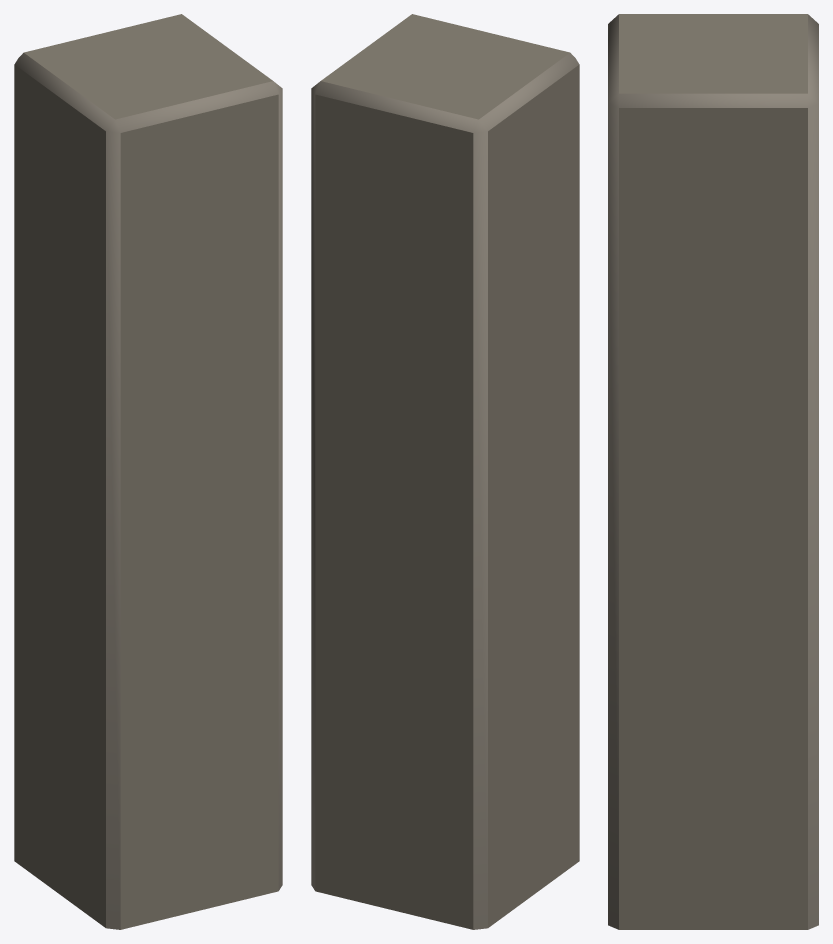
Rendered from Pilar_A_1.fbx.
The picture shows the model from 3 angles, left to right: view 1: azimuth 30°, elevation 25°; view 2: azimuth 150°, elevation 25°; view 3: azimuth 270°, elevation 25°; orthographic projection. The views are drawn at different scales.
Parts seen in each view (by area): view 1: Pilar_A_1; view 2: Pilar_A_1; view 3: Pilar_A_1.
Boxes of the visible parts, left/top/right/bottom form: Pilar_A_1: left=14, top=14, right=282, bottom=929; Pilar_A_1: left=311, top=14, right=579, bottom=929; Pilar_A_1: left=608, top=14, right=818, bottom=929.
Size of the model in its own units: 54.96 by 240 by 55.1.
